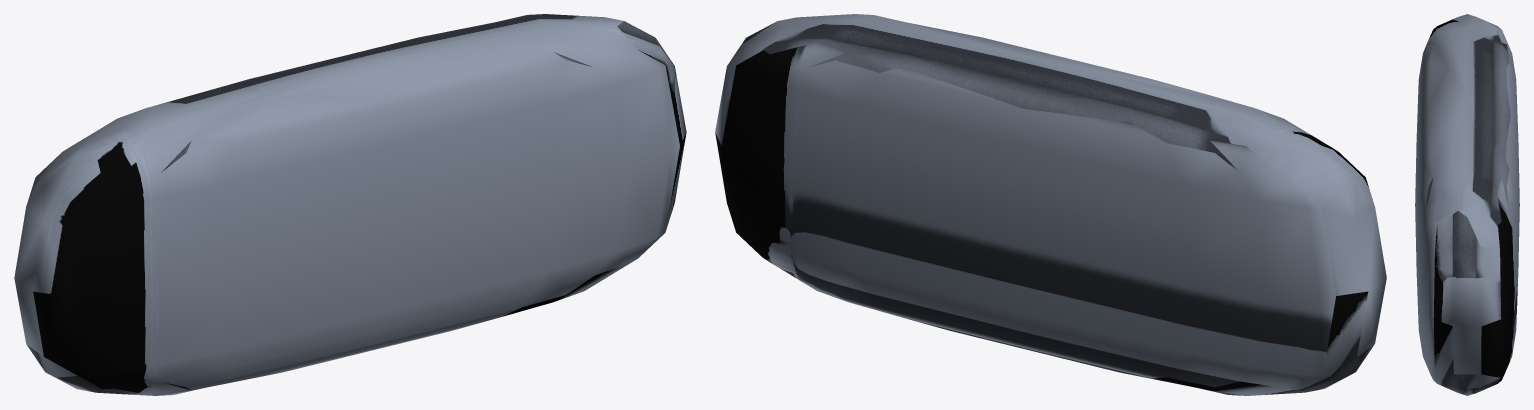
Rendered from Estela_PiernaIzq_Acero.fbx.
3 renders of one model, left to right at view 1: azimuth 30°, elevation 25°; view 2: azimuth 150°, elevation 25°; view 3: azimuth 270°, elevation 25°, orthographic. The views are drawn at different scales.
Parts seen in each view (by area): view 1: Estela_PiernaIzq_Acero; view 2: Estela_PiernaIzq_Acero; view 3: Estela_PiernaIzq_Acero.
Part boxes in pixels (box(x1,y1,x2,y2)): Estela_PiernaIzq_Acero: box(14, 14, 686, 395); Estela_PiernaIzq_Acero: box(715, 14, 1386, 395); Estela_PiernaIzq_Acero: box(1415, 14, 1519, 395).
Size of the model in its own units: 0.784 by 0.3252 by 0.1429.
